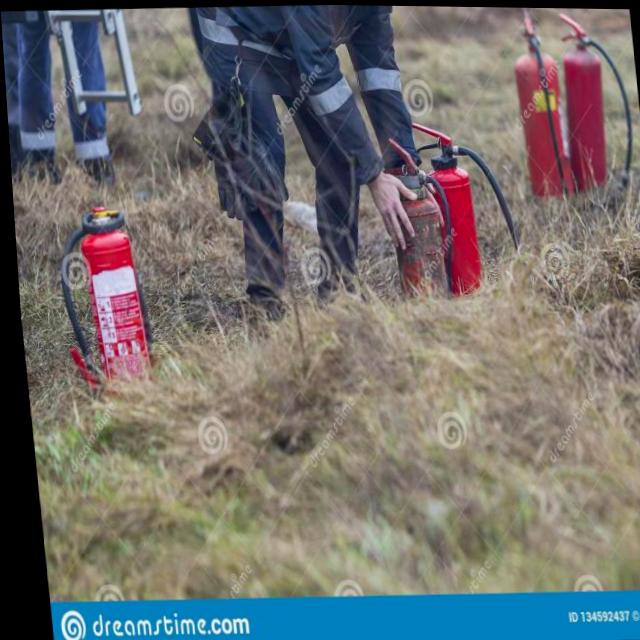FireExtinguisher: (403, 110, 538, 300), (46, 197, 162, 414), (372, 129, 464, 314), (552, 6, 638, 198), (499, 6, 574, 198)
